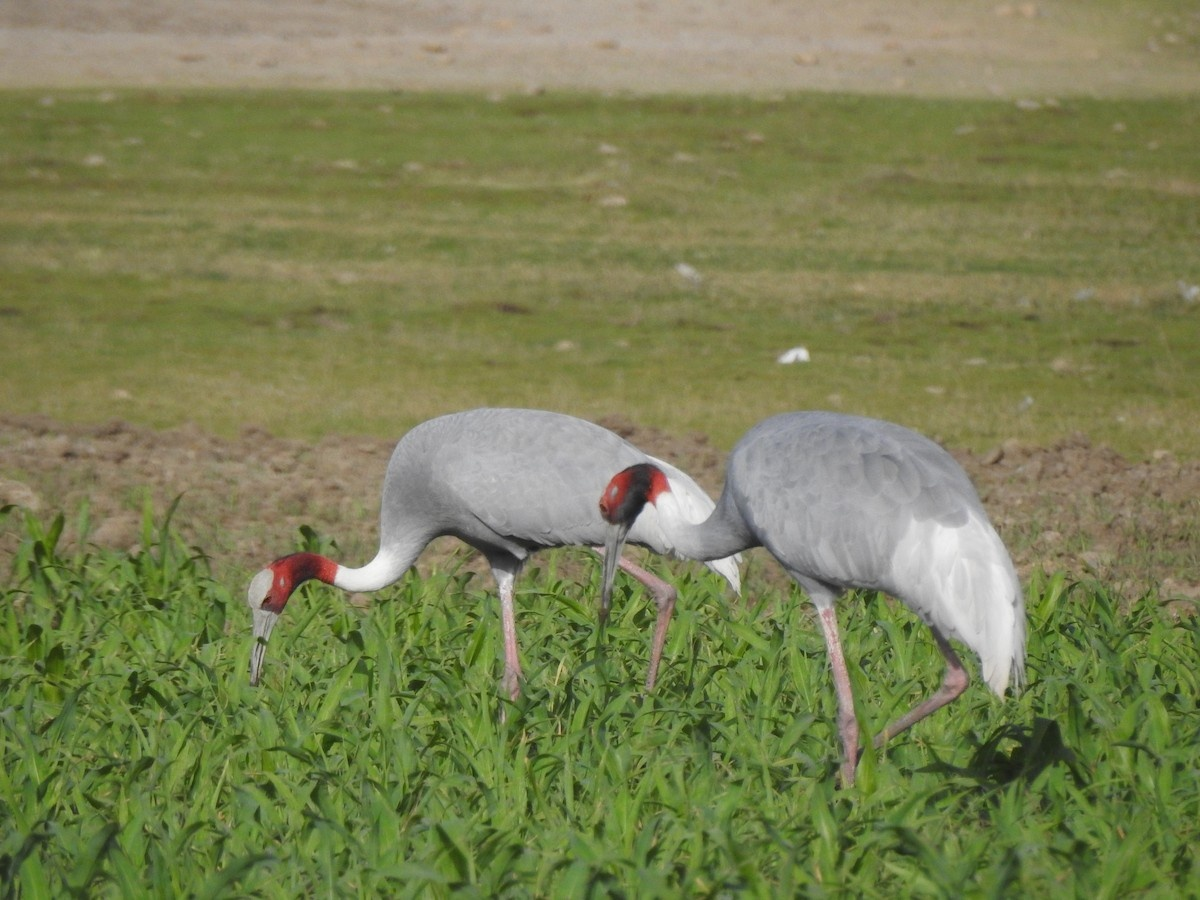crane: (599, 463, 1039, 725), (247, 398, 560, 701)
